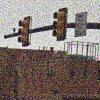traffic lights: (17, 16, 33, 48)
